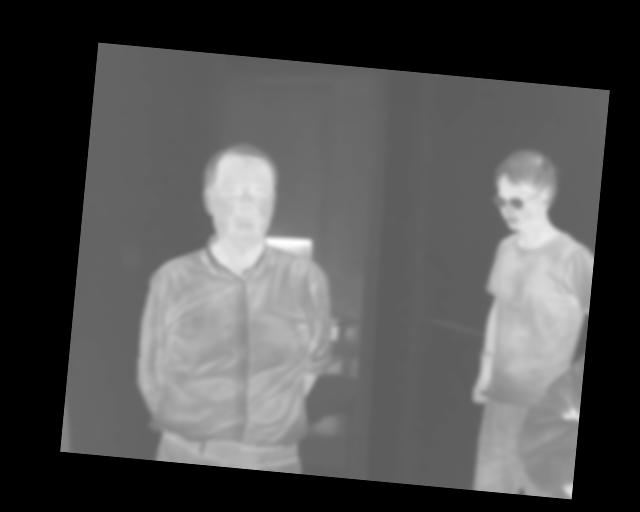face: (197, 138, 283, 253), (490, 143, 561, 235)
